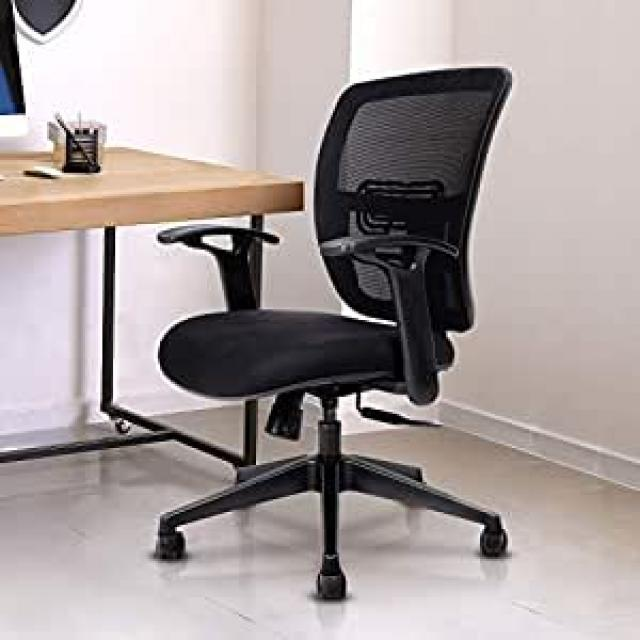chair: (130, 36, 560, 610)
